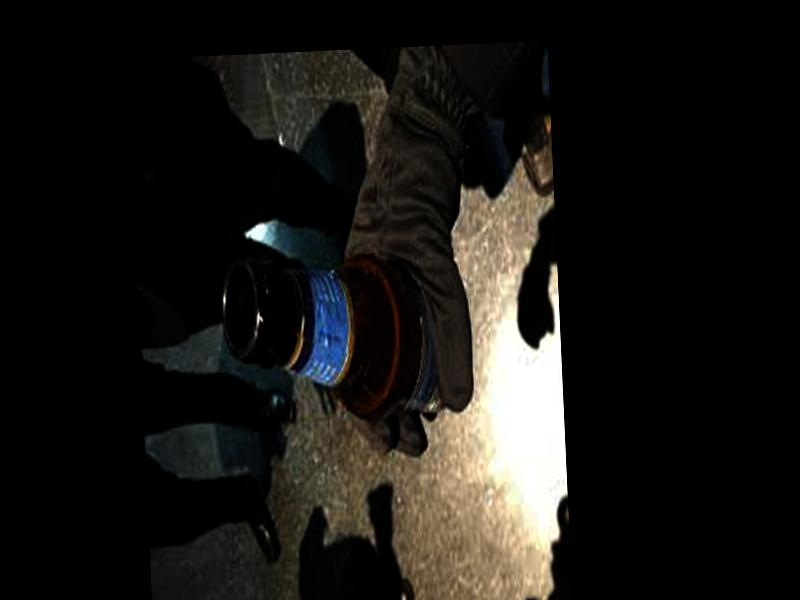Beer: (219, 244, 460, 434)
